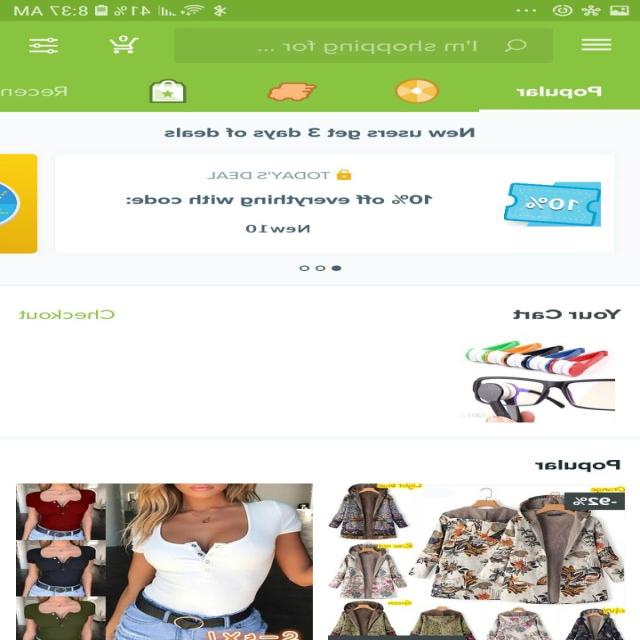EditText: (174, 28, 553, 64)
Icon: (150, 79, 188, 103), (110, 35, 140, 54), (30, 37, 60, 54), (582, 38, 612, 51), (504, 39, 527, 53), (337, 169, 352, 180)
Image: (328, 483, 626, 640), (16, 483, 314, 640), (460, 340, 616, 422), (504, 182, 601, 226), (1, 154, 39, 254), (394, 78, 440, 104), (268, 82, 318, 101)
Text: (126, 194, 434, 207), (164, 128, 476, 140), (258, 40, 478, 54), (516, 86, 602, 99), (535, 459, 621, 472), (512, 309, 622, 319), (207, 171, 332, 179), (20, 310, 116, 319), (1, 86, 68, 97), (246, 224, 310, 233)
